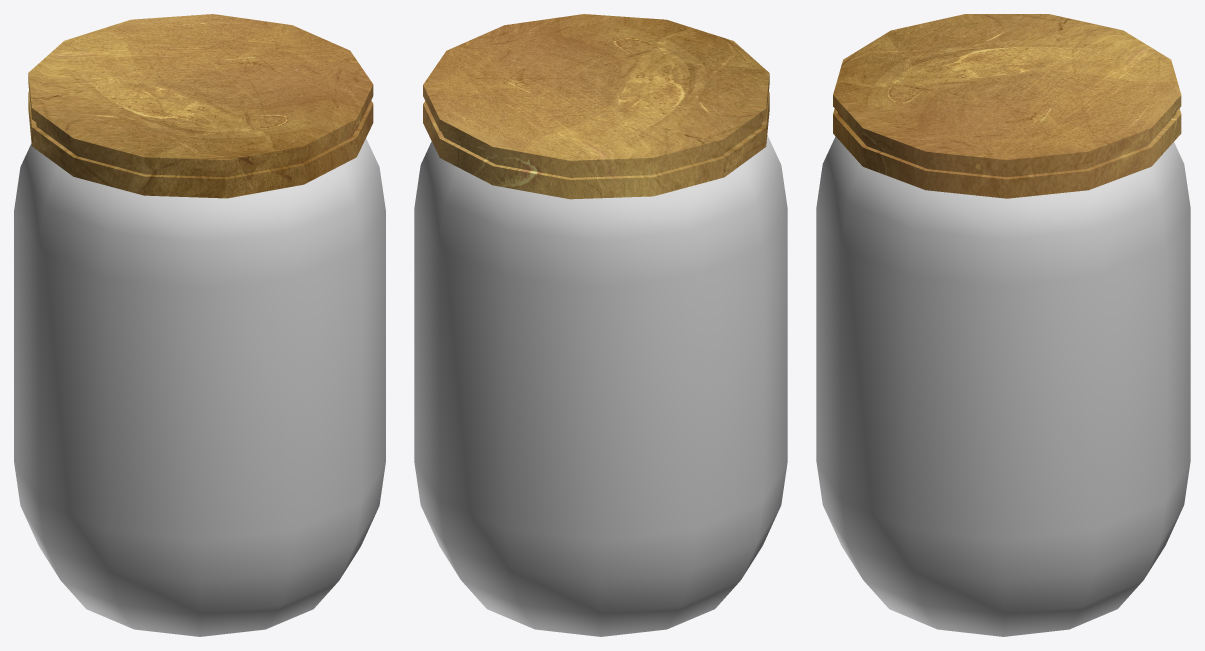
The model's file is LampLight_3DAsset_ViviJar.FBX.
3 views of the same model, side by side, from view 1: azimuth 30°, elevation 25°; view 2: azimuth 150°, elevation 25°; view 3: azimuth 270°, elevation 25° (orthographic).
Visible parts, largest first — view 1: Jar, Cylinder001; view 2: Jar, Cylinder001; view 3: Jar, Cylinder001.
Part boxes in pixels (x1=…): Jar: x1=14, y1=138, x2=385, y2=636; Cylinder001: x1=28, y1=14, x2=373, y2=198; Jar: x1=414, y1=135, x2=787, y2=636; Cylinder001: x1=423, y1=14, x2=769, y2=199; Jar: x1=816, y1=136, x2=1190, y2=636; Cylinder001: x1=833, y1=14, x2=1181, y2=198.
Bounding box in the file's own units: 22.27 × 33.58 × 22.27.
